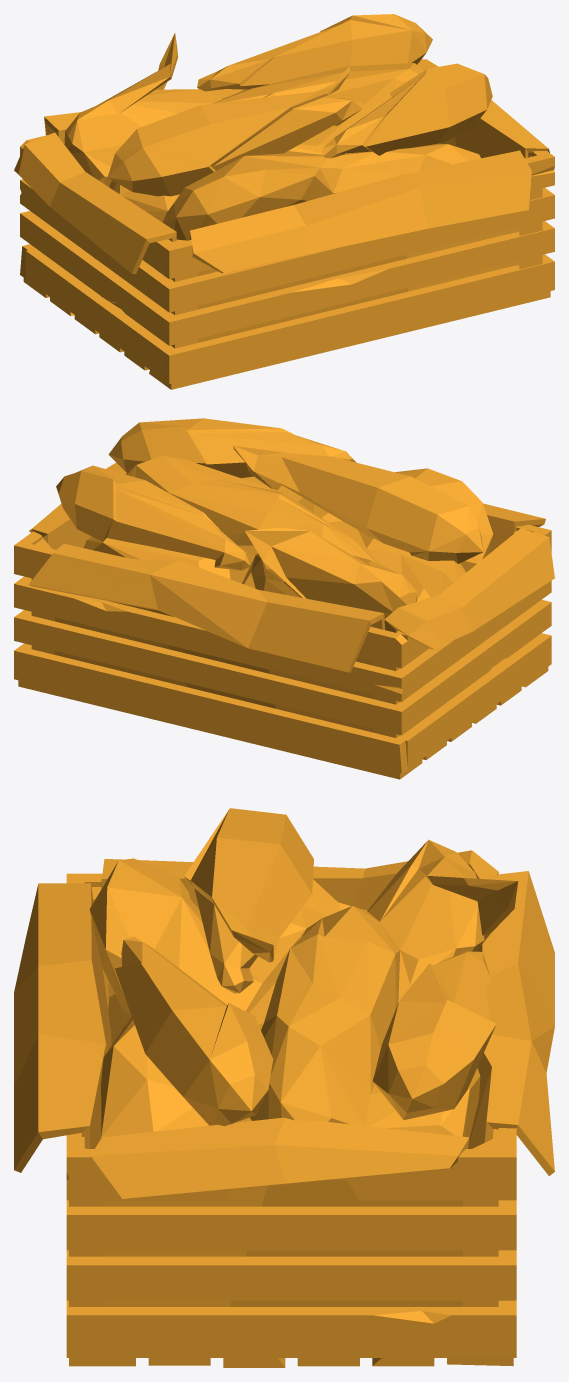
Rendered from SM_Crate_Wood_Medium_Paper_Corn_A.fbx.
3 renders of one model, top to bottom at view 1: azimuth 30°, elevation 25°; view 2: azimuth 150°, elevation 25°; view 3: azimuth 270°, elevation 25°, orthographic. The views are drawn at different scales.
Parts seen in each view (by area): view 1: crate-wood-medium-paper-corn-a; view 2: crate-wood-medium-paper-corn-a; view 3: crate-wood-medium-paper-corn-a.
Part boxes in pixels (x1,y1,x2,y2): crate-wood-medium-paper-corn-a: [14, 14, 554, 389]; crate-wood-medium-paper-corn-a: [14, 418, 554, 779]; crate-wood-medium-paper-corn-a: [14, 808, 554, 1367].
Bounding box in the file's own units: 0.663 × 0.3215 × 0.4887.
